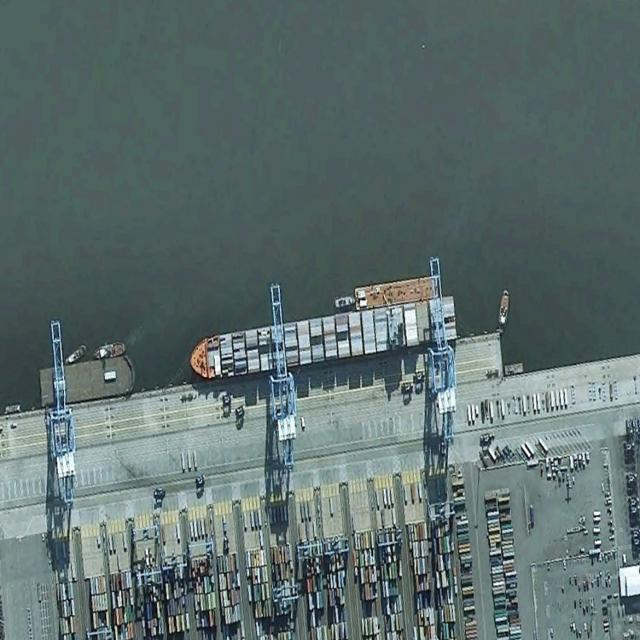Container Ship: (187, 293, 457, 386)
Other Ship: (64, 340, 90, 367), (93, 340, 127, 360), (496, 287, 511, 327), (333, 294, 356, 309)
